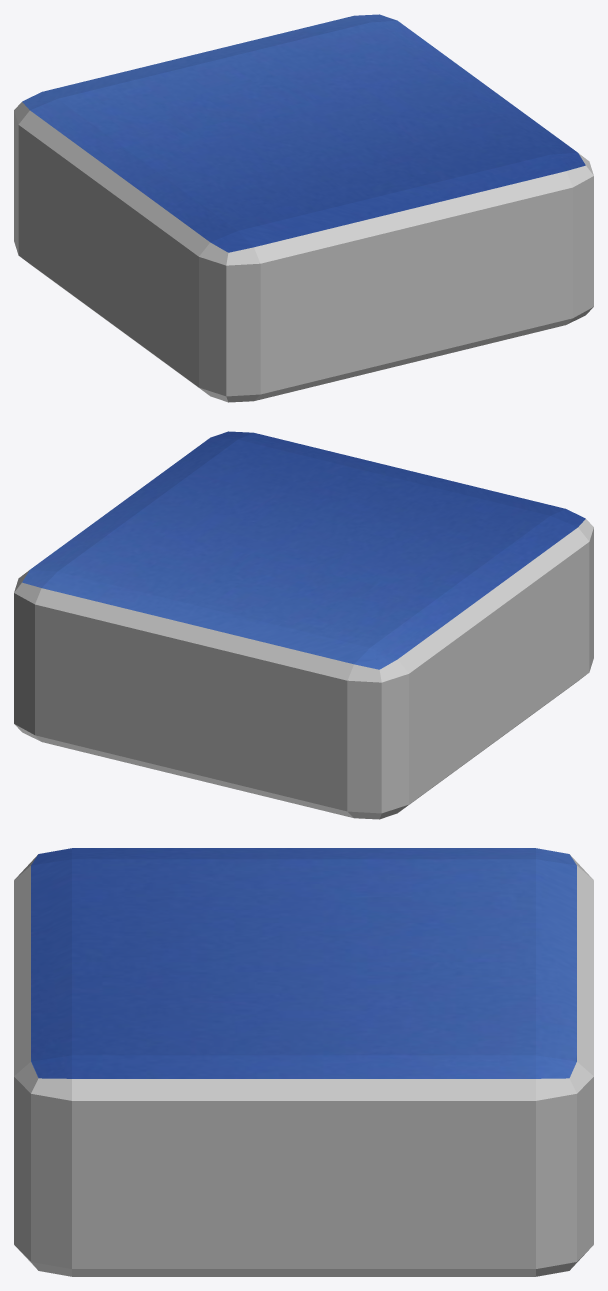
Rendered from peça10.obj.
The picture shows the model from 3 angles, top to bottom: view 1: azimuth 30°, elevation 25°; view 2: azimuth 150°, elevation 25°; view 3: azimuth 270°, elevation 25°; orthographic projection. The views are drawn at different scales.
Visible parts, largest first — view 1: Cubo.006; view 2: Cubo.006; view 3: Cubo.006.
Part boxes in pixels (x1,y1,x2,y2): Cubo.006: (14, 14, 593, 402); Cubo.006: (14, 431, 593, 819); Cubo.006: (14, 848, 593, 1276).
Bounding box in the file's own units: 0.5 × 0.2 × 0.5.
